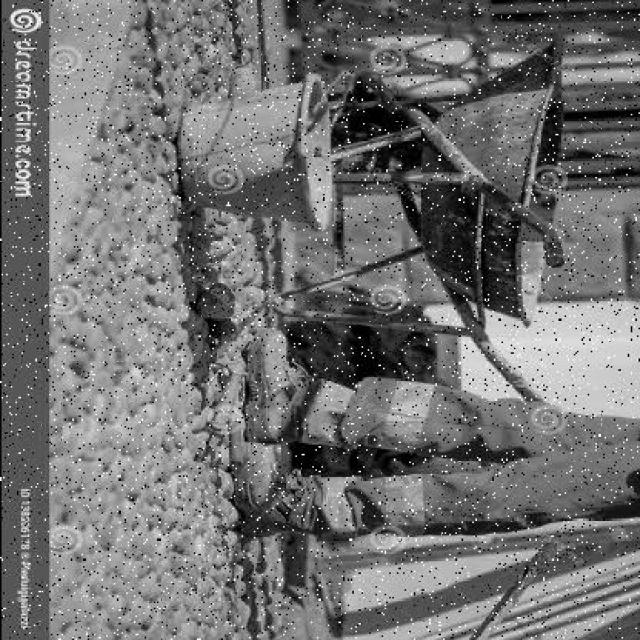shoes: (235, 326, 311, 442), (225, 445, 303, 543)
